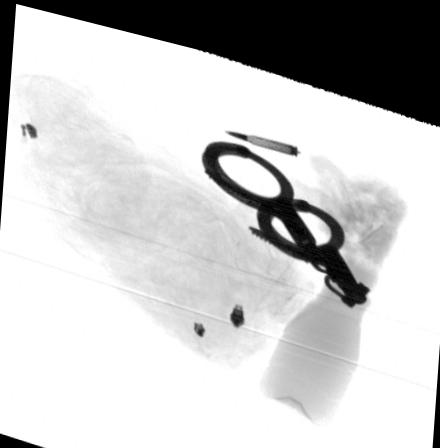Bullet: (224, 119, 296, 139)
HandCuffs: (199, 126, 371, 289)
